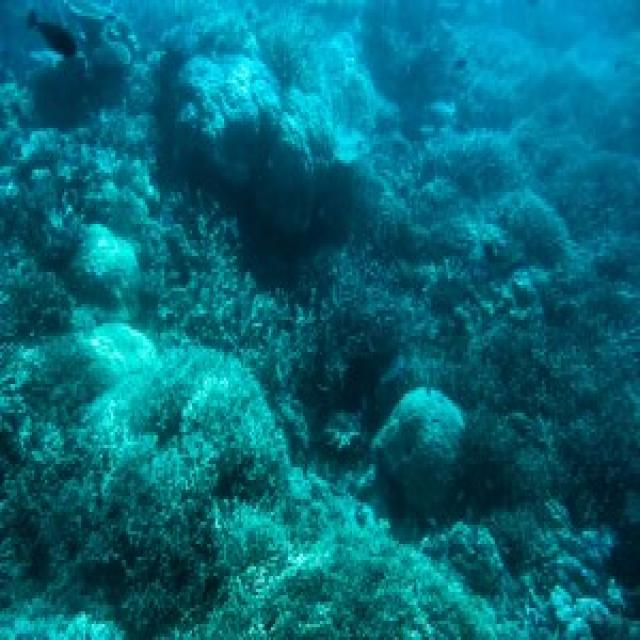Bleached: (69, 216, 142, 313), (182, 59, 278, 129), (80, 372, 146, 471), (84, 324, 157, 375)
Healthy: (91, 347, 289, 635), (434, 270, 639, 523), (204, 519, 498, 638)
